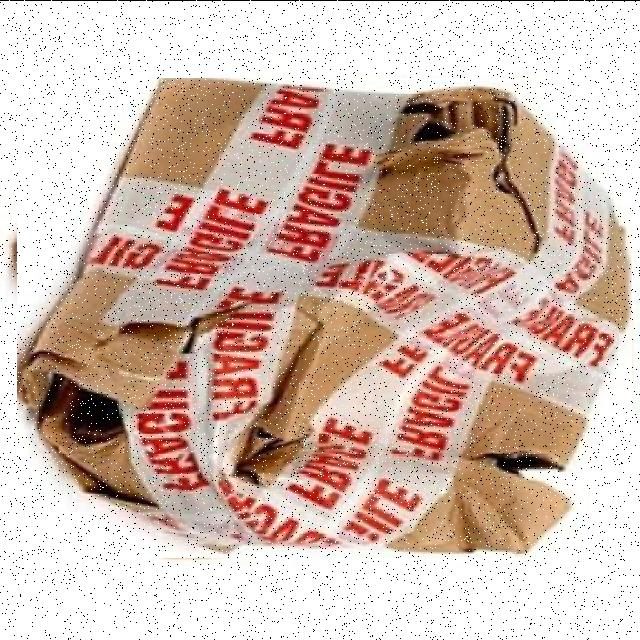defect: (17, 77, 632, 557)
